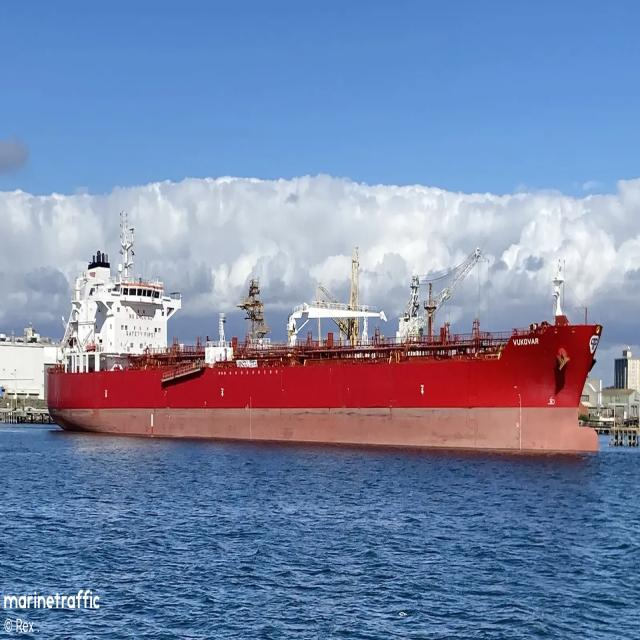Tanker: (45, 216, 603, 453)
